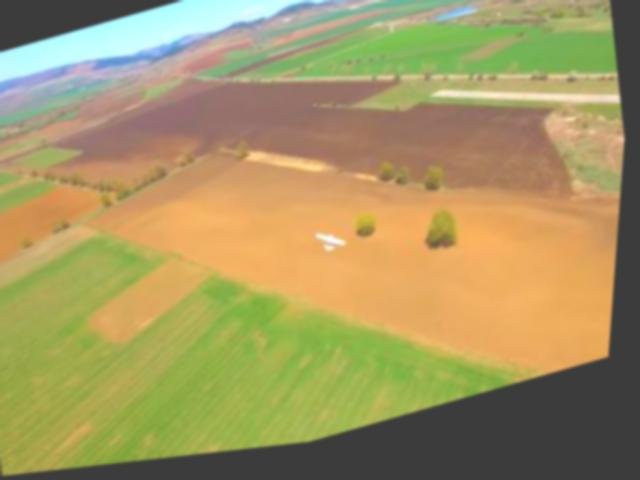uav: (310, 220, 358, 273)
